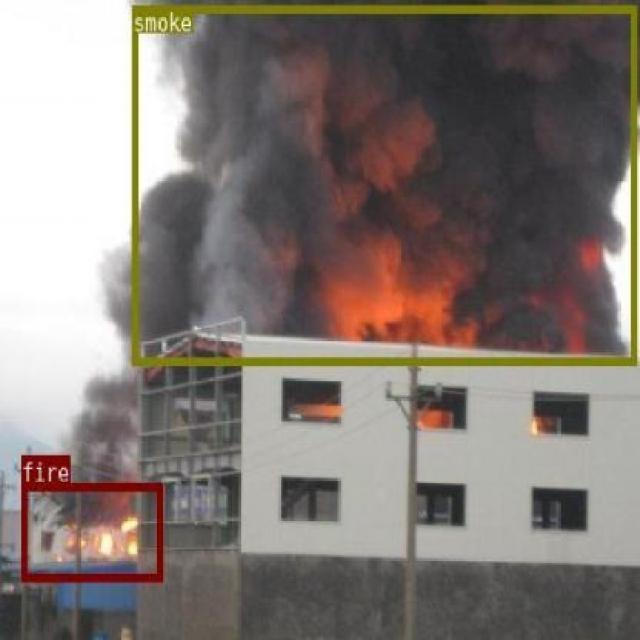fire: (21, 481, 161, 580)
smoke: (131, 6, 636, 363)
